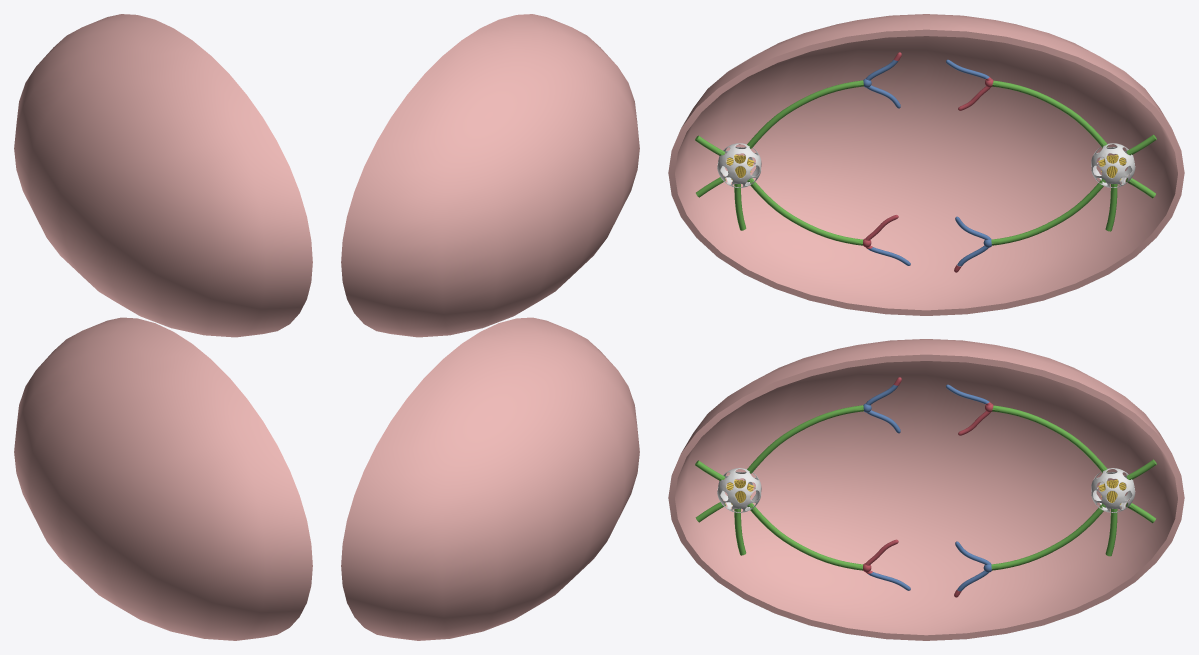
Rendered from giam phan 2 ky sau.glb.
3 views of the same model, side by side, from view 1: azimuth 30°, elevation 25°; view 2: azimuth 150°, elevation 25°; view 3: azimuth 270°, elevation 25° (orthographic). The views are drawn at different scales.
Visible parts, largest first — view 1: pSphere6, pSphere12; view 2: pSphere6, pSphere12; view 3: pSphere6, pSphere12, polySurface4696, polySurface4783, polySurface4782, polySurface4697, pasted__sweep1, pasted__sweep12, pasted__sweep11, pasted__sweep1_node, pasted__sweep13, pasted__sweep2 (+6 smaller).
Part boxes in pixels (x1,y1,x2,y2): pSphere6: (14, 14, 312, 337); pSphere12: (14, 317, 312, 640); pSphere6: (341, 14, 639, 337); pSphere12: (341, 317, 639, 640); pSphere6: (668, 14, 1184, 315); pSphere12: (668, 339, 1184, 640); polySurface4696: (1091, 143, 1135, 187); polySurface4783: (1091, 468, 1135, 512); polySurface4782: (717, 468, 761, 512); polySurface4697: (717, 143, 761, 187); pasted__sweep1: (747, 80, 863, 148); pasted__sweep12: (747, 405, 863, 473); pasted__sweep11: (992, 405, 1107, 472); pasted__sweep1_node: (992, 80, 1107, 147); pasted__sweep13: (747, 503, 863, 570); pasted__sweep2: (747, 178, 862, 245).
Size of the model in its own units: 4.49 by 18.27 by 13.98.
